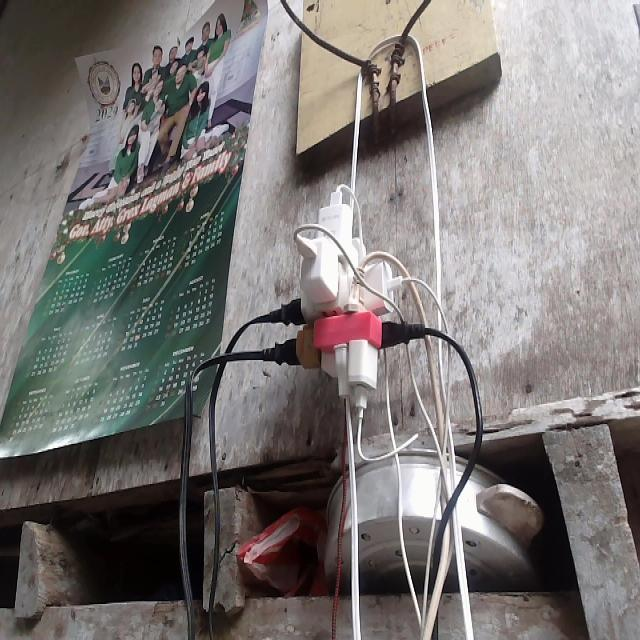-: (260, 183, 427, 420)
